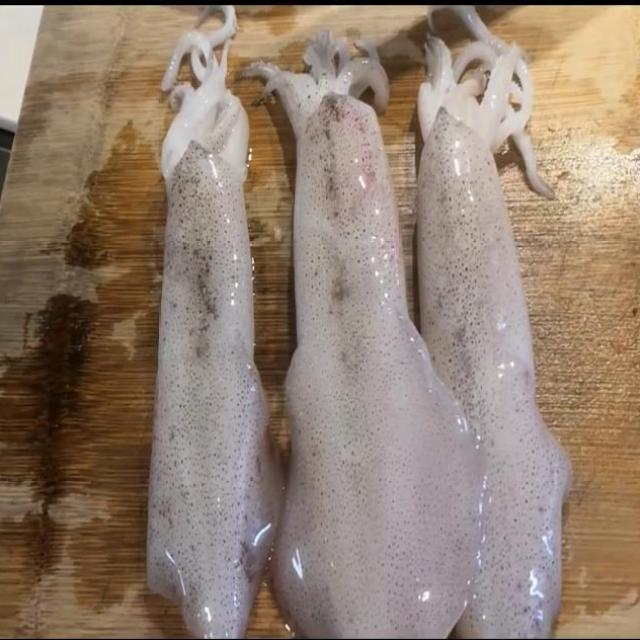SQUID: (255, 3, 478, 640), (411, 4, 573, 640), (132, 20, 284, 636)
